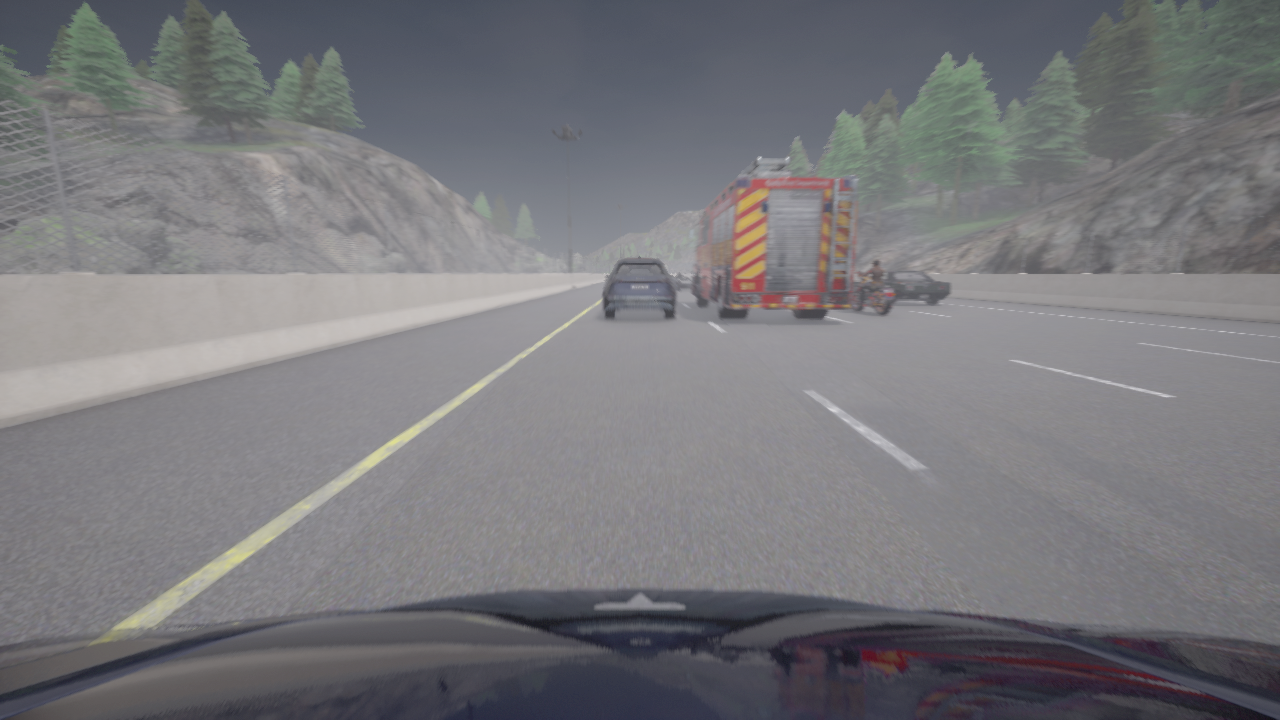cyclist: (0, 588, 1279, 719), (688, 157, 857, 318), (604, 258, 675, 318), (852, 271, 950, 304), (851, 272, 893, 315), (674, 272, 694, 290)
